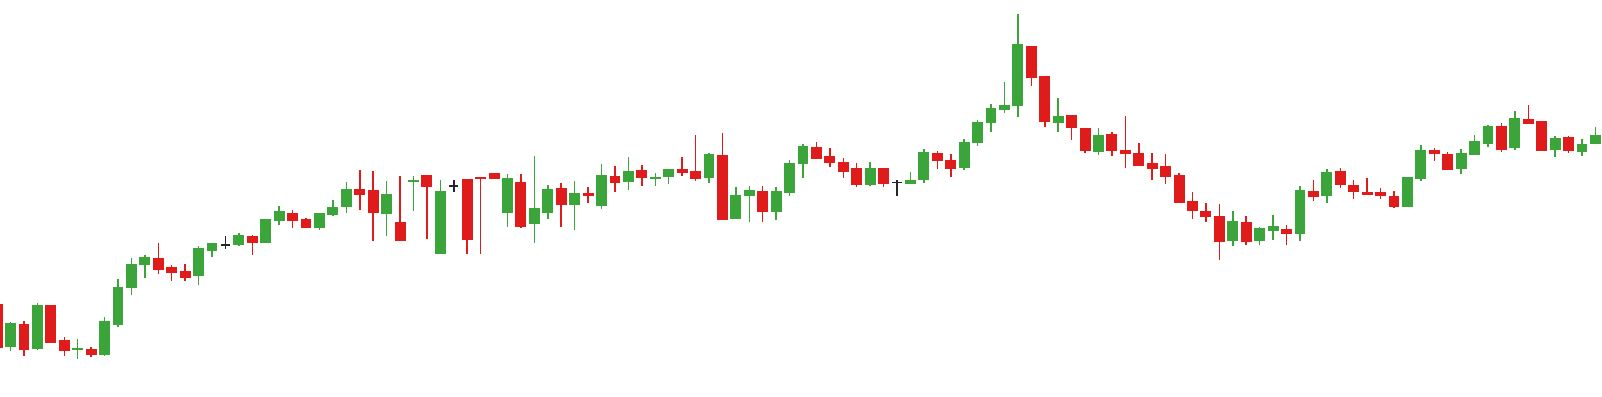buy: (622, 148, 756, 224)
